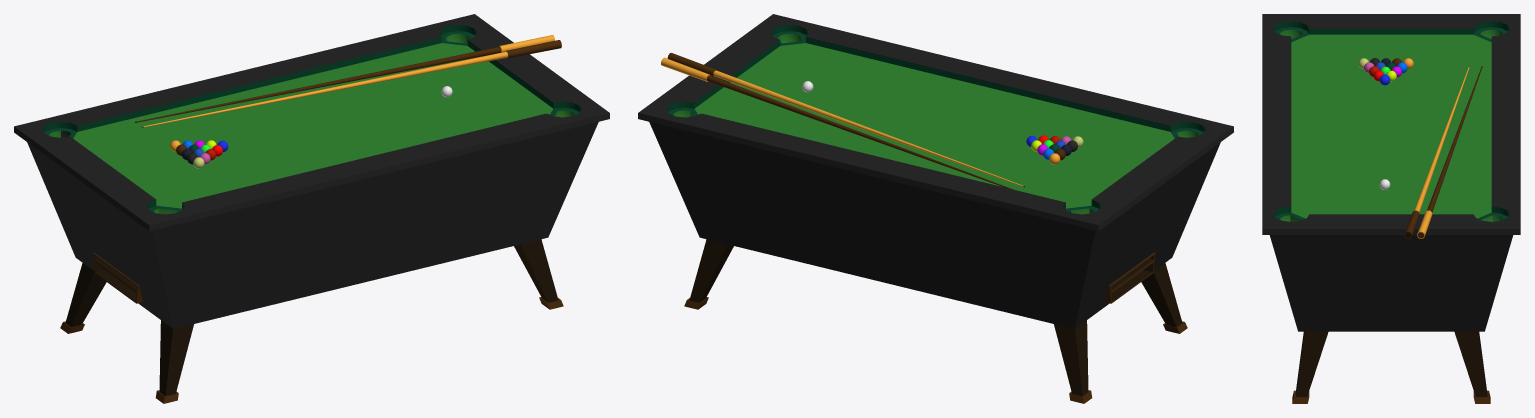
The model's file is Mesa_Pool.fbx.
The picture shows the model from 3 angles, left to right: view 1: azimuth 30°, elevation 25°; view 2: azimuth 150°, elevation 25°; view 3: azimuth 270°, elevation 25°; orthographic projection. The views are drawn at different scales.
Visible parts, largest first — view 1: MesaPool, Stick1, Stick2; view 2: MesaPool, Stick2, Stick1; view 3: MesaPool, Stick1, Stick2.
Part boxes in pixels (x1,y1,x2,y2): MesaPool: (14, 14, 609, 403); Stick1: (141, 40, 561, 127); Stick2: (135, 35, 554, 122); MesaPool: (638, 14, 1233, 403); Stick2: (661, 57, 1013, 189); Stick1: (667, 53, 1025, 187); MesaPool: (1262, 14, 1520, 403); Stick1: (1404, 66, 1469, 238); Stick2: (1417, 66, 1482, 238).
Bounding box in the file's own units: 7.41 × 3.02 × 3.55.
